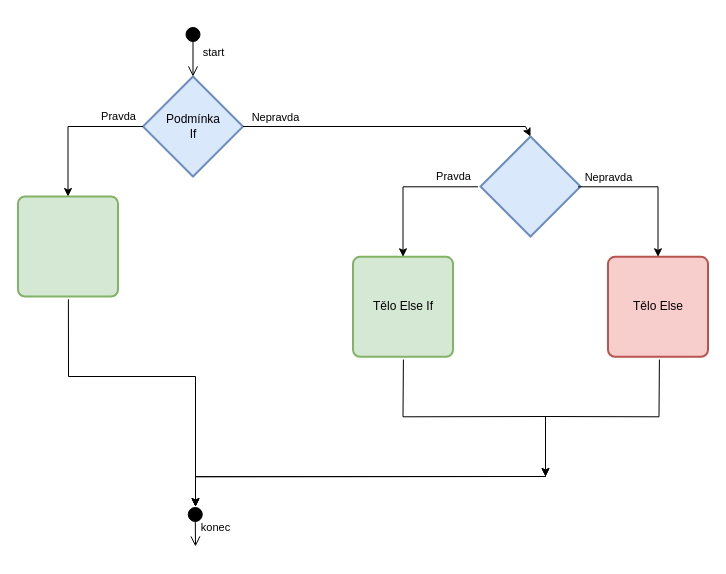
This 726x574 diagram has some shape labels left out. Each missing label, with the centre of its shape:
"Podmínka Else If" belongs at [530,186].
"Tělo If" belongs at [67,246].
